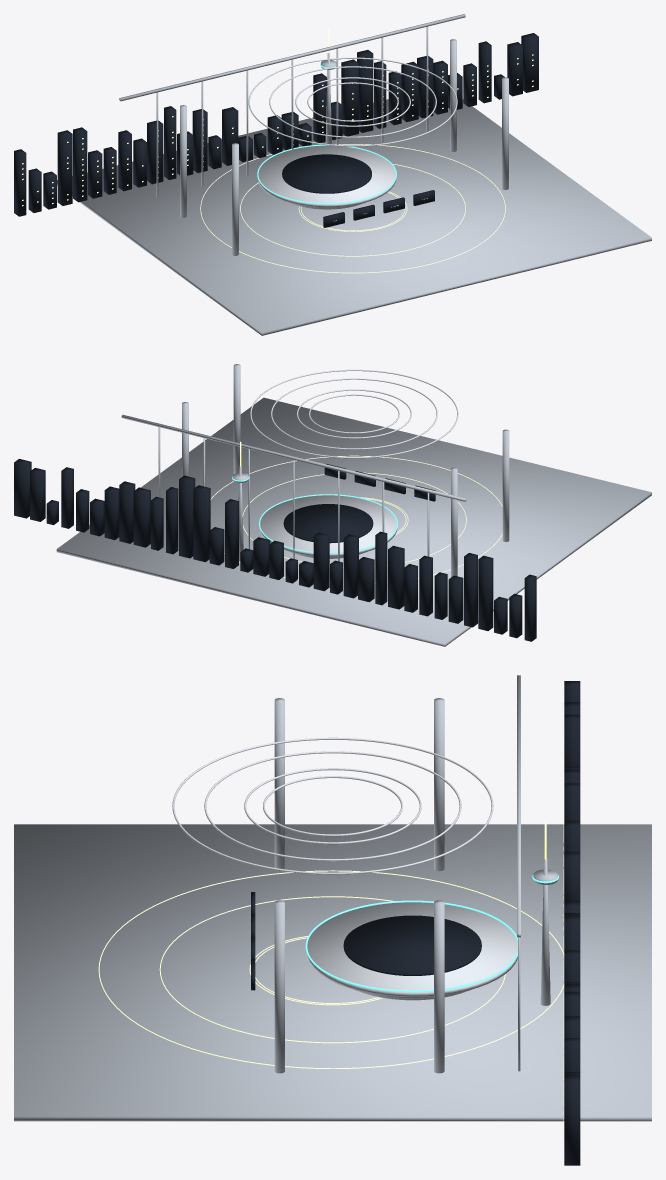
File: events.glb
3 views of the same model, one above another, from view 1: azimuth 30°, elevation 25°; view 2: azimuth 150°, elevation 25°; view 3: azimuth 270°, elevation 25° (orthographic). The views are drawn at different scales.
Visible parts, largest first — view 1: Reflective floor, Arena tier.002, Arena floor, Window lintel, Toronto skyline.022, Toronto skyline.003, Toronto skyline.023, Toronto skyline.004, Toronto skyline.026, Toronto skyline.009, Ceiling light ring.003, Toronto skyline.034 (+29 smaller); view 2: Reflective floor, Arena tier.002, Arena floor, Window lintel, Toronto skyline.022, Toronto skyline.023, Toronto skyline.003, Toronto skyline.009, Toronto skyline.026, Toronto skyline.004, Toronto skyline.012, Toronto skyline.014 (+31 smaller); view 3: Reflective floor, Arena tier.002, Arena floor, Ceiling light ring.003, Chrome column.002, Chrome column.003, Chrome column.001, Chrome column, Ceiling light ring.002, Toronto skyline.034, Architectural floor inlay.003, Arena light.002 (+7 smaller).
Part boxes in pixels (box(x1,y1,x2,y2)): Reflective floor: box(57, 99, 651, 335); Arena tier.002: box(258, 145, 396, 207); Arena floor: box(282, 154, 371, 193); Window lintel: box(119, 14, 465, 101); Toronto skyline.022: box(341, 59, 358, 136); Toronto skyline.003: box(57, 130, 72, 205); Toronto skyline.023: box(357, 50, 373, 132); Toronto skyline.004: box(73, 127, 87, 202); Toronto skyline.026: box(401, 61, 418, 121); Toronto skyline.009: box(147, 120, 163, 184); Ceiling light ring.003: box(248, 57, 457, 146); Toronto skyline.034: box(521, 33, 538, 92); Reflective floor: box(56, 397, 651, 646); Arena tier.002: box(259, 495, 397, 556); Arena floor: box(283, 504, 373, 543); Window lintel: box(121, 415, 466, 501); Toronto skyline.022: box(193, 485, 210, 562); Toronto skyline.023: box(179, 475, 195, 558); Toronto skyline.003: box(478, 555, 493, 630); Toronto skyline.009: box(388, 545, 404, 609); Toronto skyline.026: box(133, 487, 150, 547); Toronto skyline.004: box(464, 553, 477, 627); Toronto skyline.012: box(343, 534, 358, 598); Toronto skyline.014: box(313, 532, 329, 591); Reflective floor: box(14, 824, 651, 1121); Arena tier.002: box(306, 902, 517, 996); Arena floor: box(343, 915, 481, 975); Ceiling light ring.003: box(172, 737, 493, 874); Chrome column.002: box(274, 900, 284, 1073); Chrome column.003: box(434, 900, 444, 1073); Chrome column.001: box(434, 698, 444, 871); Chrome column: box(274, 698, 284, 871); Ceiling light ring.002: box(204, 751, 461, 861); Toronto skyline.034: box(564, 1074, 580, 1165); Architectural floor inlay.003: box(98, 870, 564, 1068); Arena light.002: box(305, 900, 517, 992).
Bounding box in the file's own units: 34.66 × 7.77 × 24.
